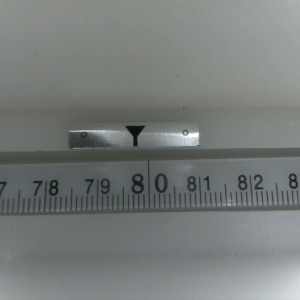0: (154, 173, 168, 192)
1: (203, 175, 209, 191)
2: (253, 174, 263, 189)
7: (31, 181, 42, 196), (84, 179, 94, 194), (0, 181, 7, 197)
8: (130, 173, 144, 193), (48, 179, 59, 196), (186, 175, 196, 191), (287, 173, 297, 189), (237, 175, 247, 190)
9: (99, 178, 110, 194)
finger: (122, 125, 145, 146)
